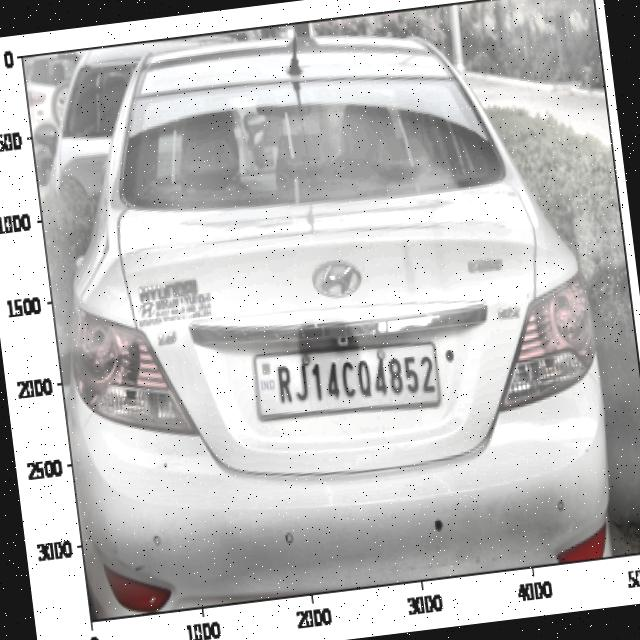license_plate: (268, 338, 442, 423)
